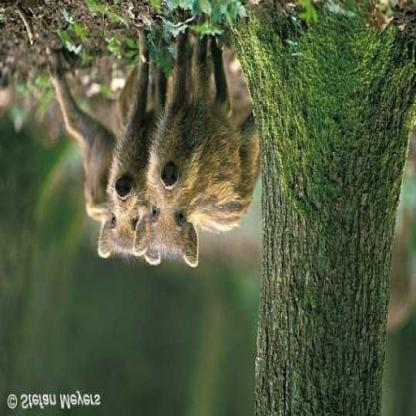boar: (137, 30, 286, 289), (88, 73, 158, 298)
